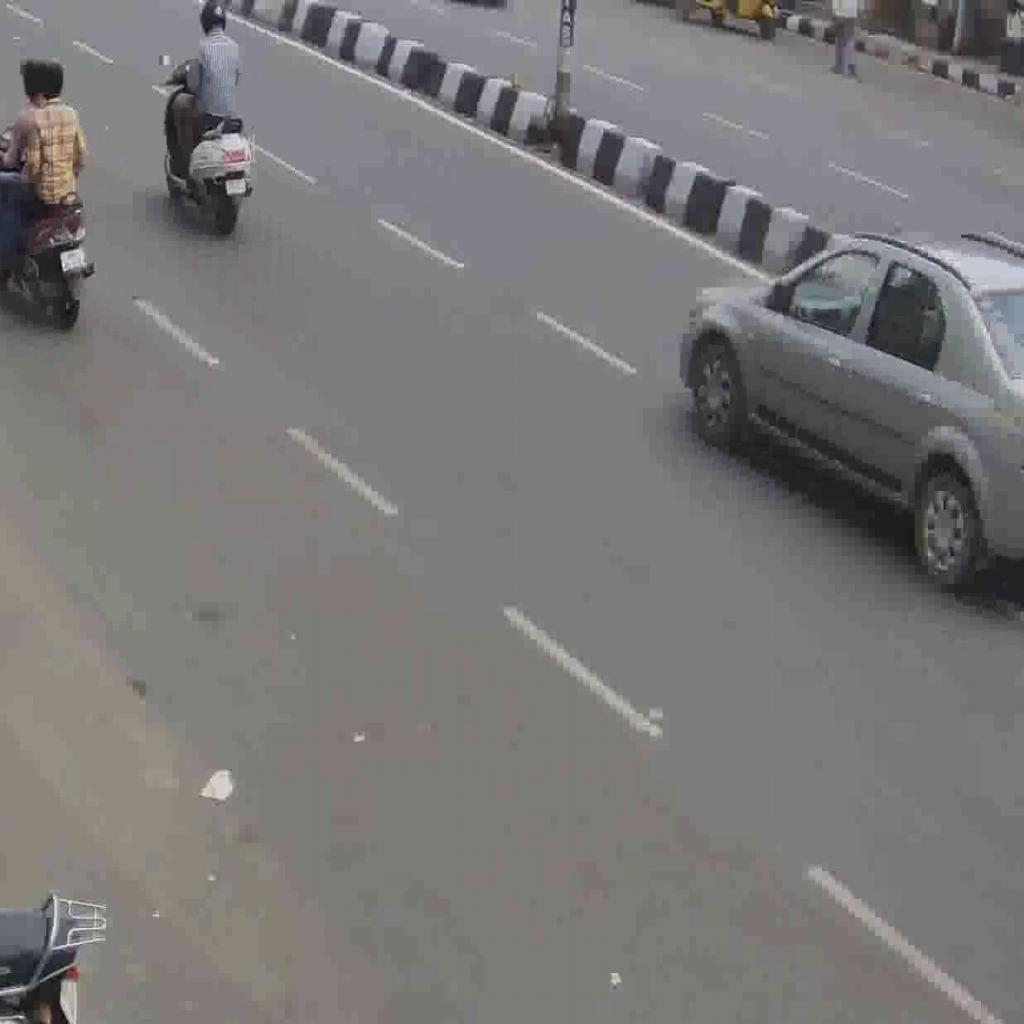bike: (148, 58, 259, 247), (0, 134, 89, 334)
helmet: (196, 0, 235, 41)
lisc: (61, 250, 86, 271), (225, 179, 247, 193)
no_helmet: (34, 54, 69, 106), (13, 56, 47, 108)
rider: (7, 49, 90, 213), (166, 0, 258, 136), (4, 50, 45, 269)
